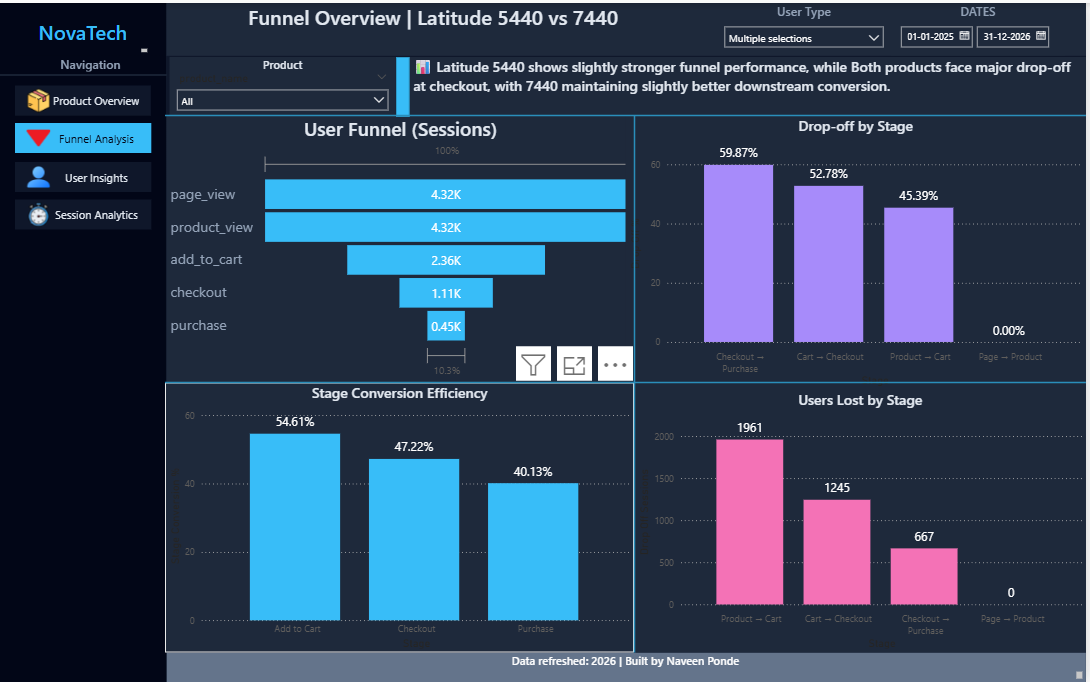

Layout of this report page (visuals, bound fields, positions):
{"tool":"powerbi","page":{"name":"Funnel","canvas":[1440,900],"ordinal":1},"visuals":[{"type":"shape","box":[0,0,220,900],"z":0},{"type":"textbox","title":"NovaTech","box":[20,20,180,50.2],"z":1000},{"type":"textbox","title":"Navigation","box":[20,70,200,50],"z":2000},{"type":"shape","box":[220,0,1220,70],"z":3000},{"type":"shape","title":"Data refreshed: 2026 | Built by Naveen Ponde","box":[220.7,860.9,1218.8,39.8],"z":4000},{"type":"textbox","title":"Data refreshed: 2026 | Built by Naveen Ponde","box":[218.7,860.9,1220.8,39.8],"z":5000},{"type":"textbox","title":"Funnel Overview | Latitude 5440 vs 7440","box":[324.1,0,526.9,69.6],"z":6000},{"type":"actionButton","title":"Product Overview","box":[20,110,180,40],"z":7000},{"type":"actionButton","title":"Product Overview","box":[20,160,180.9,39.8],"z":8000},{"type":"actionButton","title":"Product Overview","box":[20,210,180.9,39.8],"z":9000},{"type":"actionButton","title":"Product Overview","box":[20,260,180.9,39.8],"z":10000},{"type":"slicer","title":"User Type","fields":{"Values":["users.user_segment"]},"box":[950,0,230.6,69.6],"z":11000},{"type":"slicer","title":"DATES","fields":{"Values":["DateTable.Date"]},"box":[1181,0,230.6,69.6],"z":12000},{"type":"shape","box":[0,81.5,220.7,27.8],"z":13000},{"type":"funnel","title":"User Funnel (Sessions)","fields":{"Category":["events.event_name"],"Y":["CountNonNull(events.session_id)"]},"box":[220.7,149.1,620.3,353.9],"z":14000},{"type":"columnChart","title":"Drop-off by Stage","fields":{"Category":["DropStages.Stage"],"Y":["DropStages.Drop Off %"]},"box":[829.1,149.1,610.4,363.9],"z":15000},{"type":"clusteredColumnChart","title":"Stage Conversion Efficiency","fields":{"Category":["StageConversion.Stage"],"Y":["StageConversion.Stage Conversion %"]},"box":[218.7,503,622.3,357.9],"z":16000},{"type":"slicer","title":"Product","fields":{"Values":["products.product_name"]},"box":[224.7,71.6,300.2,77.5],"z":17000},{"type":"textbox","title":"📊 Latitude 5440 shows slightly stronger funnel performance, while Both products face major drop-off at checkout, with 7440 maintaining slightly better downstream conversion.","box":[542.8,71.6,896.7,77.5],"z":18000},{"type":"shape","box":[524.9,71.6,17.9,79.5],"z":19000},{"type":"columnChart","title":"Users Lost by Stage","fields":{"Category":["DropStages.Stage"],"Y":["DropStages.Drop Off Sessions"]},"box":[841,513,598.5,347.9],"z":20000},{"type":"shape","box":[218.7,139.2,1220.8,19.9],"z":21000},{"type":"shape","box":[218.7,493.1,1220.8,19.9],"z":22000},{"type":"shape","box":[831.1,149.1,19.9,711.8],"z":23000}]}

Visuals, with their boxes in screenshot pixels (x1, y1, x2, y2), scaled from the page's 1440x900 canvas onto the 1090x682 screenshot:
shape: bbox=(0, 0, 167, 681)
"NovaTech" textbox: bbox=(15, 15, 151, 53)
"Navigation" textbox: bbox=(15, 53, 167, 91)
shape: bbox=(167, 0, 1089, 53)
"Data refreshed: 2026 | Built by Naveen Ponde" shape: bbox=(167, 652, 1089, 681)
"Data refreshed: 2026 | Built by Naveen Ponde" textbox: bbox=(166, 652, 1089, 681)
"Funnel Overview | Latitude 5440 vs 7440" textbox: bbox=(245, 0, 644, 53)
"Product Overview" actionButton: bbox=(15, 83, 151, 114)
"Product Overview" actionButton: bbox=(15, 121, 152, 151)
"Product Overview" actionButton: bbox=(15, 159, 152, 189)
"Product Overview" actionButton: bbox=(15, 197, 152, 227)
"User Type" slicer: bbox=(719, 0, 894, 53)
"DATES" slicer: bbox=(894, 0, 1069, 53)
shape: bbox=(0, 62, 167, 83)
"User Funnel (Sessions)" funnel: bbox=(167, 113, 637, 381)
"Drop-off by Stage" columnChart: bbox=(628, 113, 1089, 389)
"Stage Conversion Efficiency" clusteredColumnChart: bbox=(166, 381, 637, 652)
"Product" slicer: bbox=(170, 54, 397, 113)
"📊 Latitude 5440 shows slightly stronger funnel performance, while Both products face major drop-off at checkout, with 7440 maintaining slightly better downstream conversion." textbox: bbox=(411, 54, 1089, 113)
shape: bbox=(397, 54, 411, 115)
"Users Lost by Stage" columnChart: bbox=(637, 389, 1089, 652)
shape: bbox=(166, 105, 1089, 121)
shape: bbox=(166, 374, 1089, 389)
shape: bbox=(629, 113, 644, 652)
